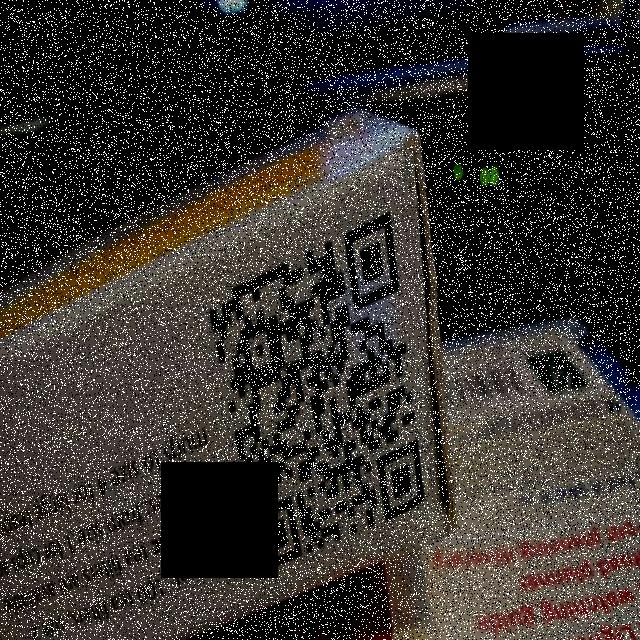QR_CODE: (200, 196, 438, 582)
